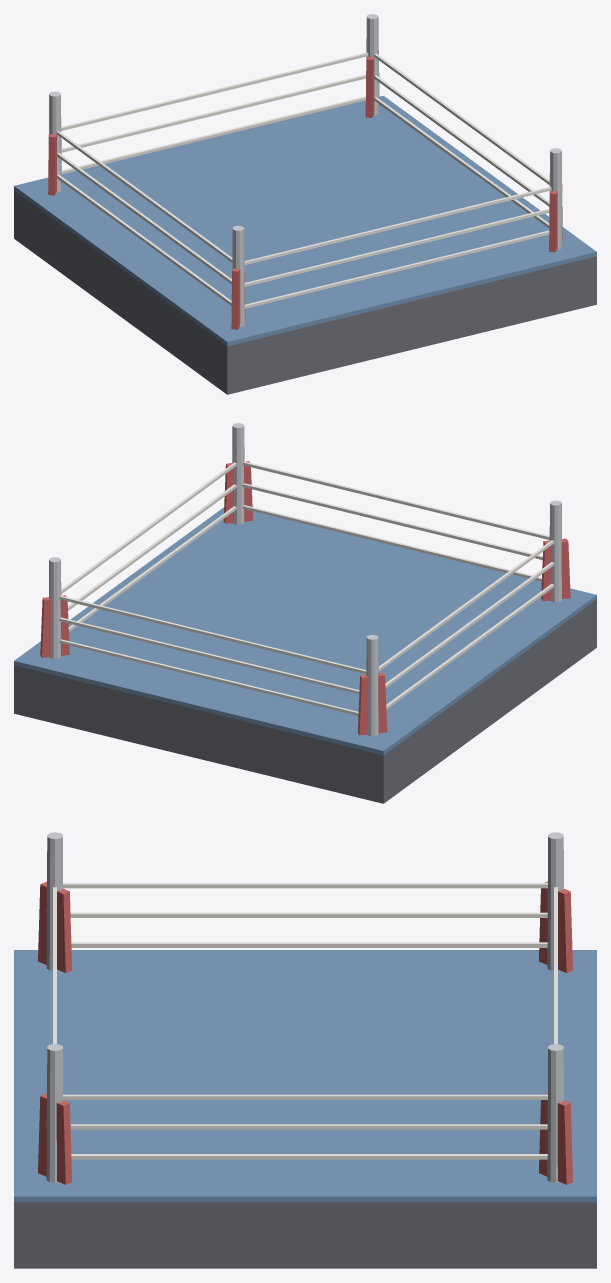
File: martial-arts-dojo-and-fight-stages-wrestling-ring-00aa5933__18034.glb
The picture shows the model from 3 angles, top to bottom: view 1: azimuth 30°, elevation 25°; view 2: azimuth 150°, elevation 25°; view 3: azimuth 270°, elevation 25°; orthographic projection. The views are drawn at different scales.
Visible parts, largest first — view 1: wrestling-ring; view 2: wrestling-ring; view 3: wrestling-ring.
Part boxes in pixels (<box>): wrestling-ring: <box>14,14,596,394</box>; wrestling-ring: <box>14,423,596,803</box>; wrestling-ring: <box>14,832,596,1268</box>.
Size of the model in its own units: 7.1 by 2.74 by 7.1.
